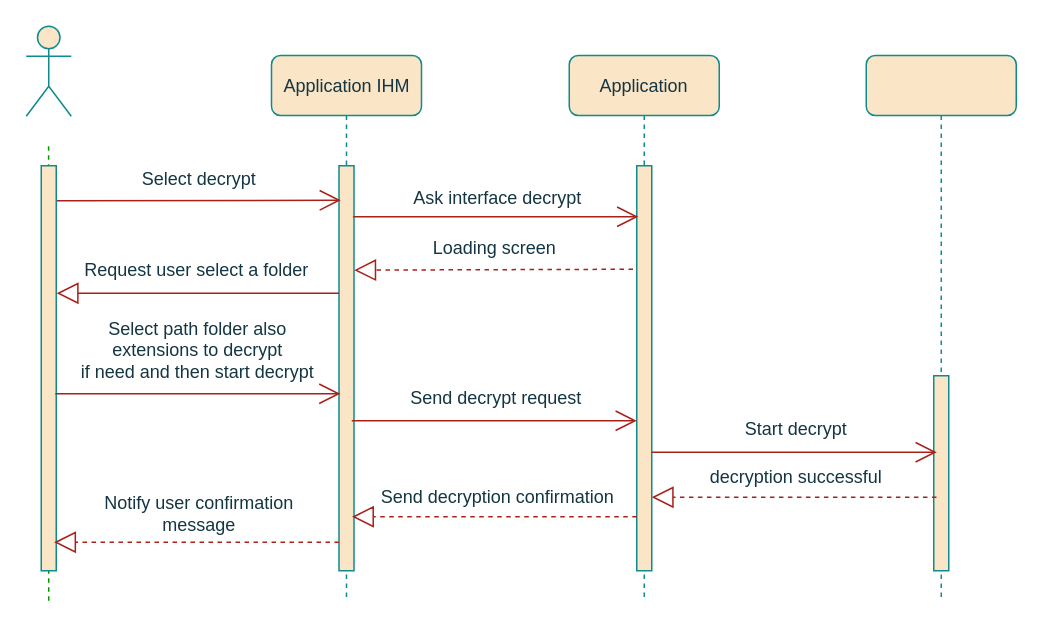
The diagram is 1043 pixels wide and 629 high, and some of its shapes have lost their labels. Here are the shapes that lost their labels. From the top down, the box of each, then its label:
(25, 25, 71, 116): user
(865, 54, 1016, 601): Storage
